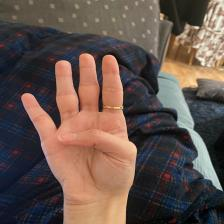four: (20, 52, 142, 204)
